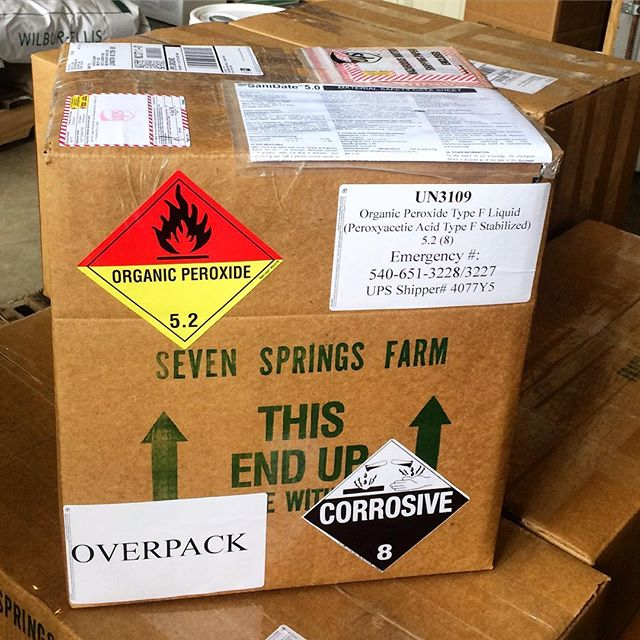OrganicPeroxide: (76, 172, 283, 349)
